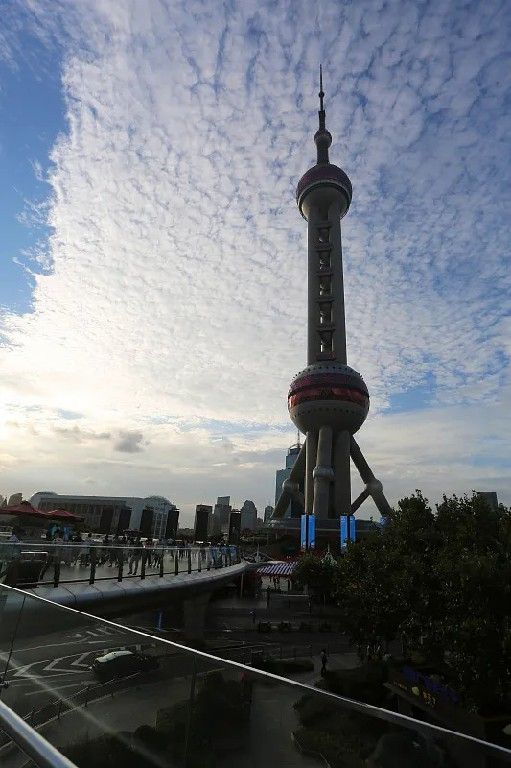Oriental: (271, 64, 397, 521)
